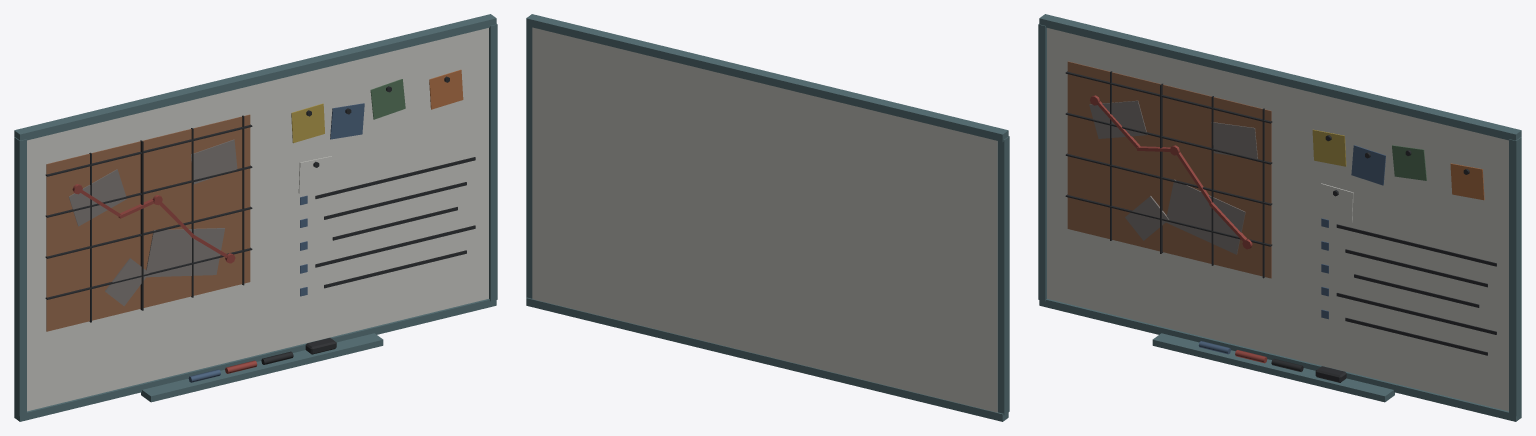
The model's file is astro_mission_board.fbx.
The picture shows the model from 3 angles, left to right: view 1: azimuth 30°, elevation 25°; view 2: azimuth 150°, elevation 25°; view 3: azimuth 330°, elevation 25°; orthographic projection.
Parts seen in each view (by area): view 1: MissionBoard_Body; view 2: MissionBoard_Body; view 3: MissionBoard_Body.
Boxes of the visible parts, x1,y1,x2,y2 form: MissionBoard_Body: (14,14,497,421); MissionBoard_Body: (526,14,1009,421); MissionBoard_Body: (1038,14,1521,421).
Bounding box in the file's own units: 329 × 191 × 17.5.
